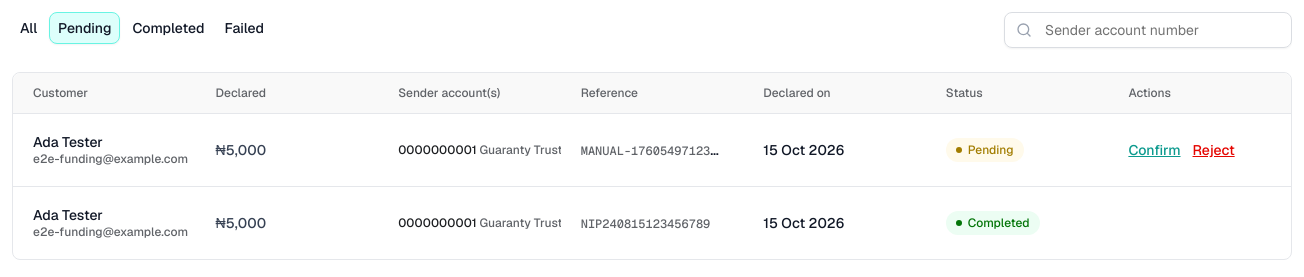
Scenario: FundingRequestsTab › All sends status=all (ALL on the wire) and keeps actions on pending rows only
The image size is (1304, 277).
Click the button "All": (29,28) [12, 12, 45, 44]
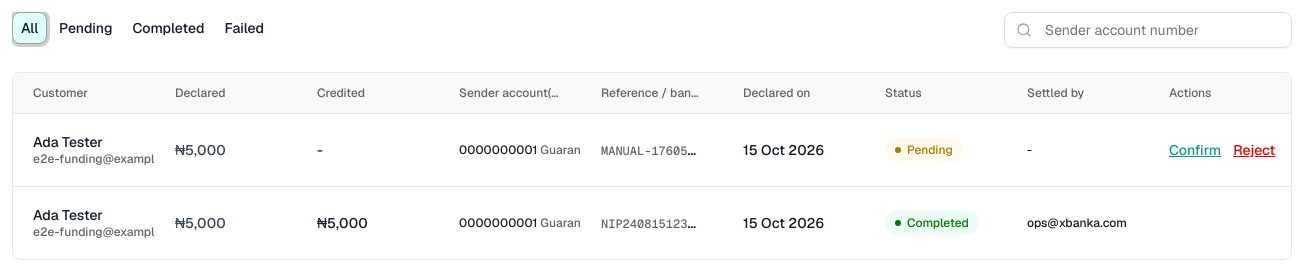
Expected: the button "Confirm" is shown, [1169, 140, 1221, 158]
Result: the text "ops@xbanka.com" is shown at [1027, 214, 1129, 230]
